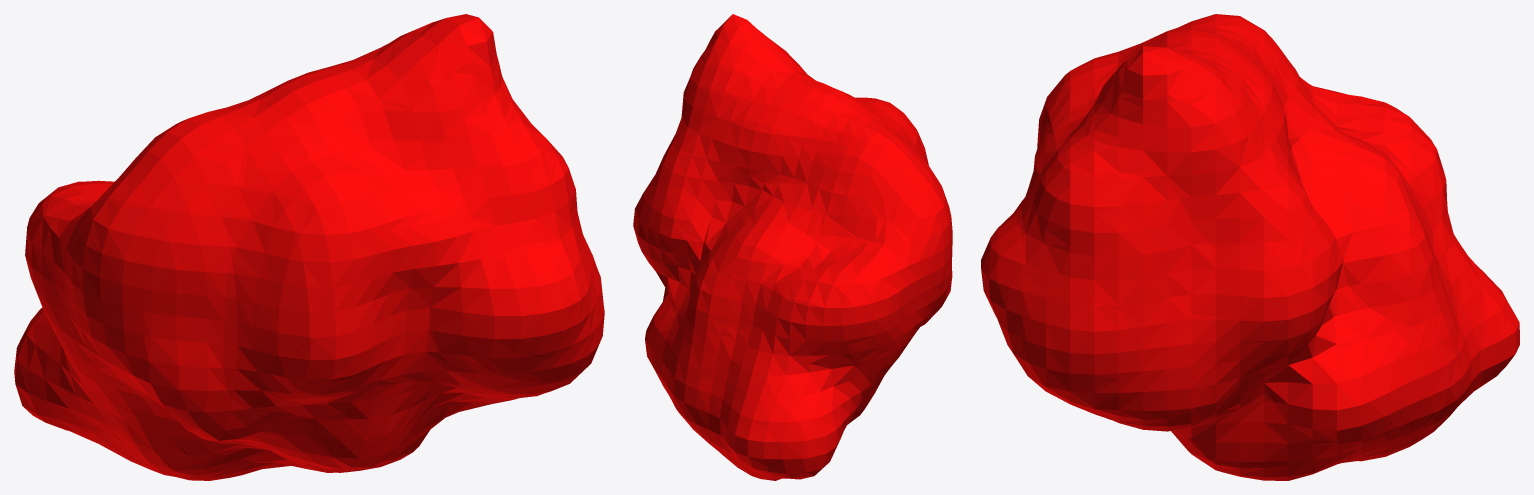
The model's file is yffB_coarse.dae.
3 views of the same model, side by side, from view 1: azimuth 30°, elevation 25°; view 2: azimuth 150°, elevation 25°; view 3: azimuth 270°, elevation 25° (orthographic). The views are drawn at different scales.
Parts seen in each view (by area): view 1: yffB; view 2: yffB; view 3: yffB.
Part boxes in pixels (x1,y1,x2,y2): yffB: (14, 14, 604, 480); yffB: (633, 14, 952, 480); yffB: (981, 14, 1519, 480).
Bounding box in the file's own units: 38.42 × 42.47 × 43.61.
